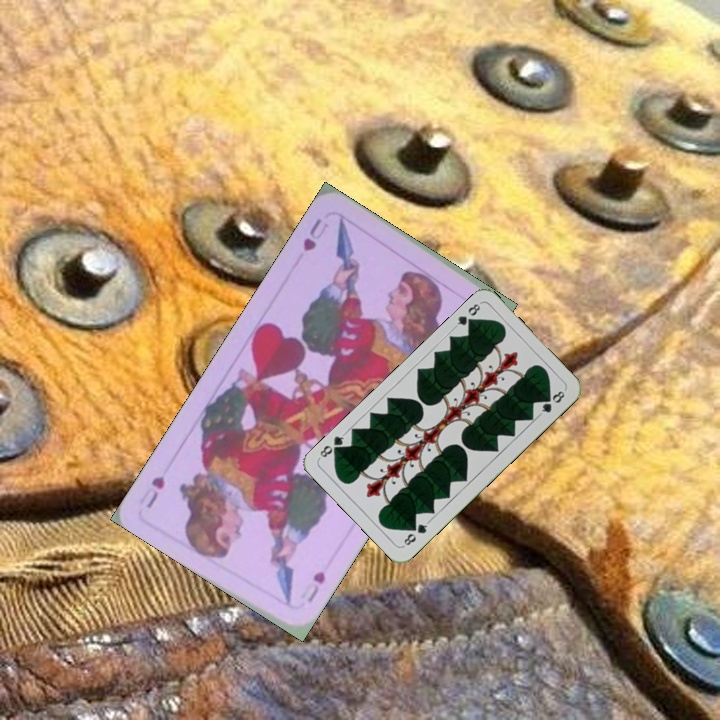G8: (399, 517, 432, 549), (450, 299, 483, 330)
HU: (299, 214, 332, 254), (303, 567, 328, 605)
